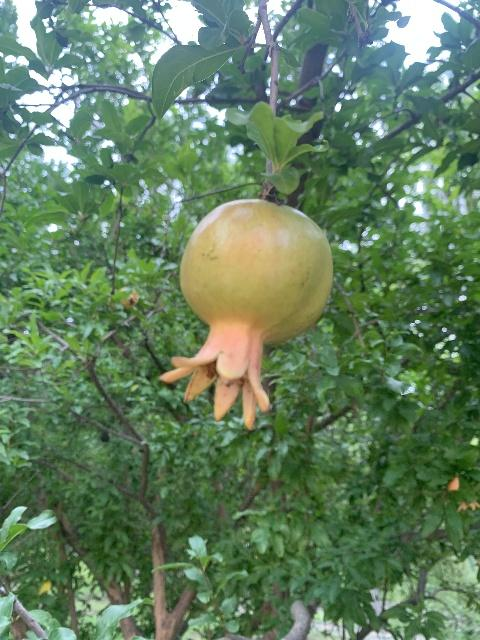mid-growth: (159, 197, 334, 431), (118, 286, 139, 309)
